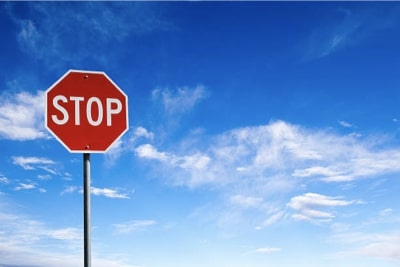StopSign: (44, 67, 130, 156)
